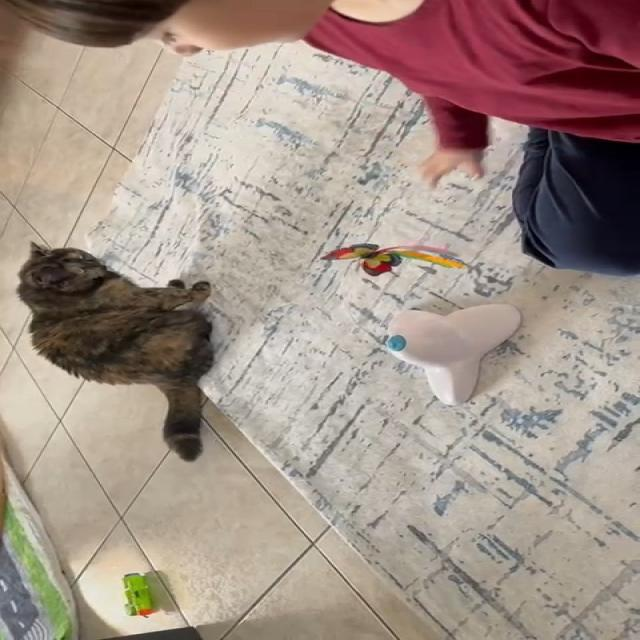authorized: (14, 241, 214, 462)
